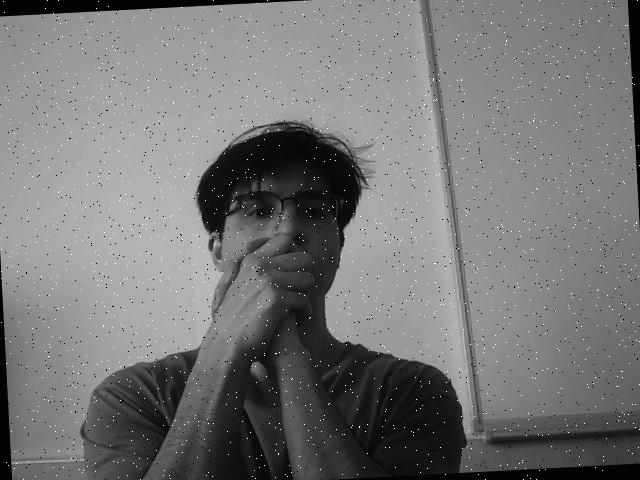friend: (198, 231, 319, 364)
